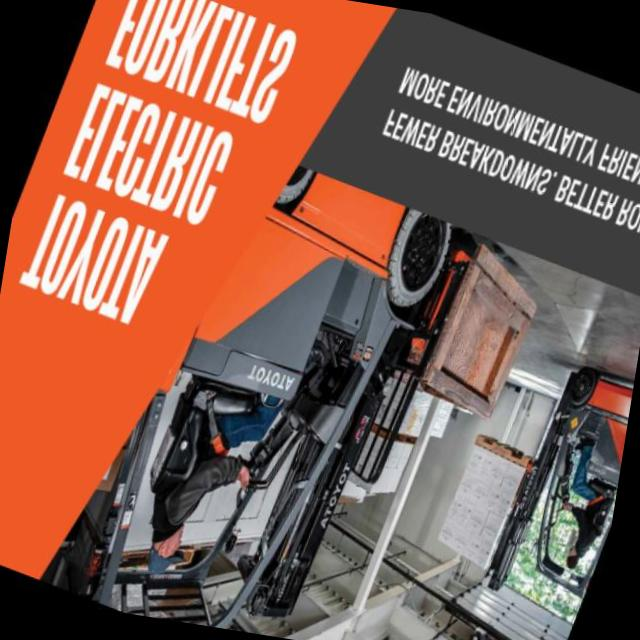driver: (122, 365, 285, 607), (538, 452, 621, 578)
forklift: (106, 150, 493, 640), (452, 328, 639, 630)
